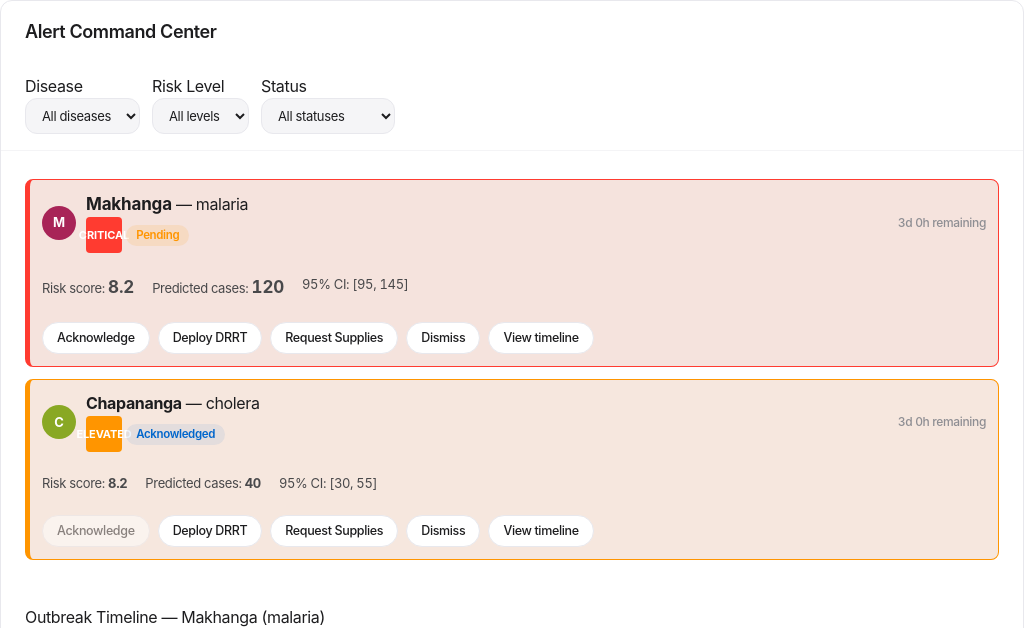
Test: AlertCommandCenter › shows empty state when filters match nothing
The width and height of the screenshot is (1024, 628).
Step 1. Select "measles" in the dropdown labelled "Disease" → (82, 116), box [25,98,140,134]
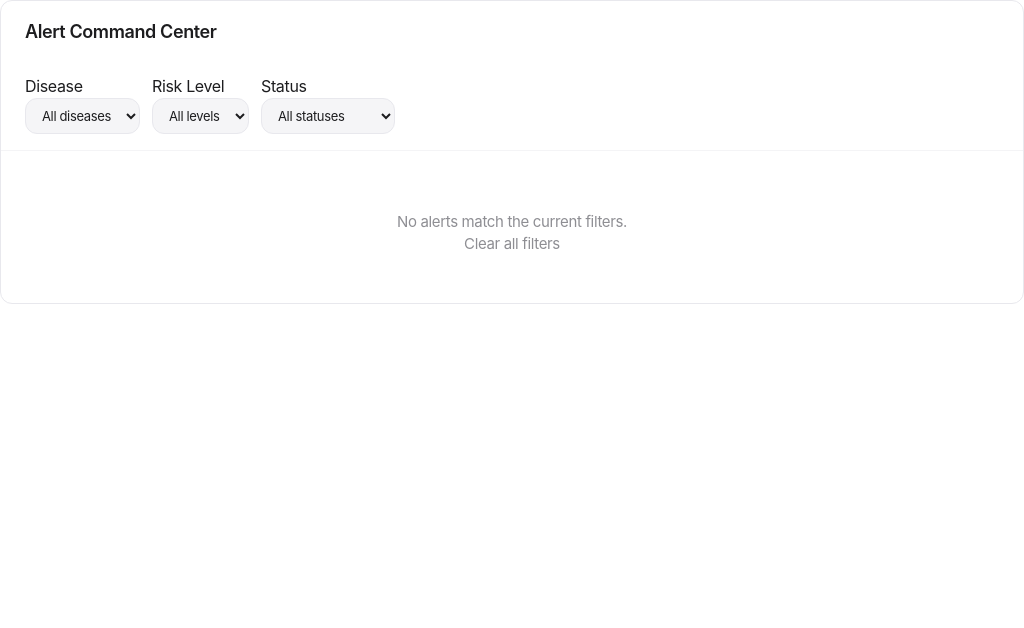
Expected: the text "No alerts match the current filters." is shown, [397,212,627,231]
